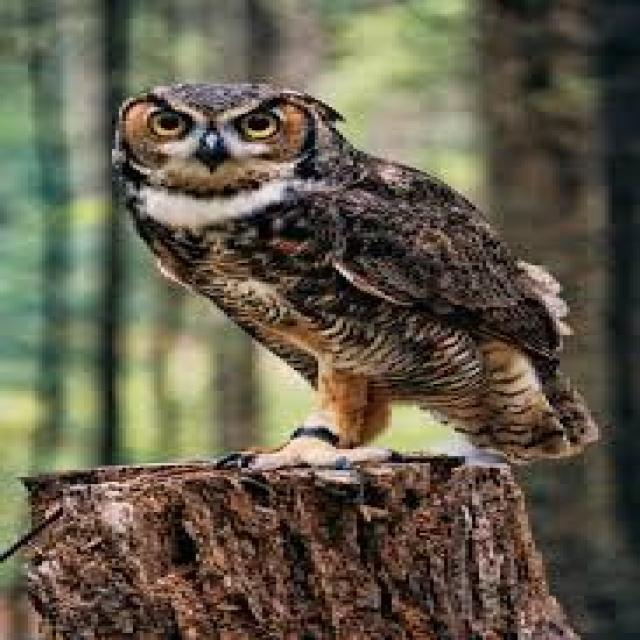Owl: (100, 64, 616, 470)
